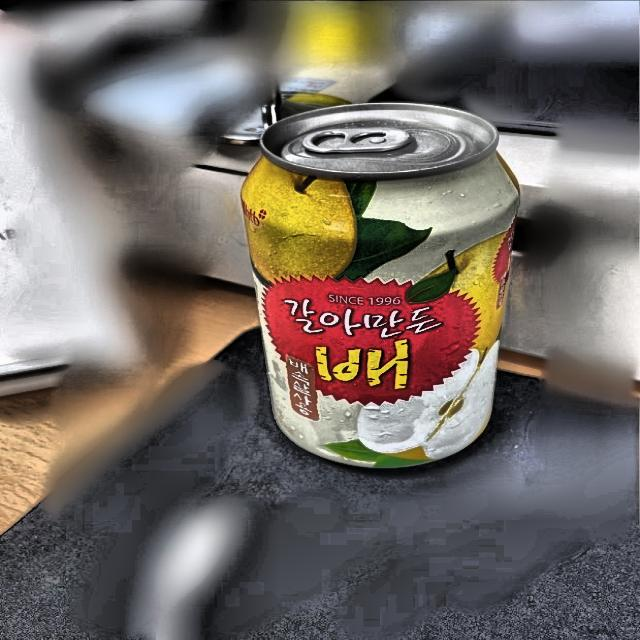galamandeunbae: (252, 121, 500, 461)
